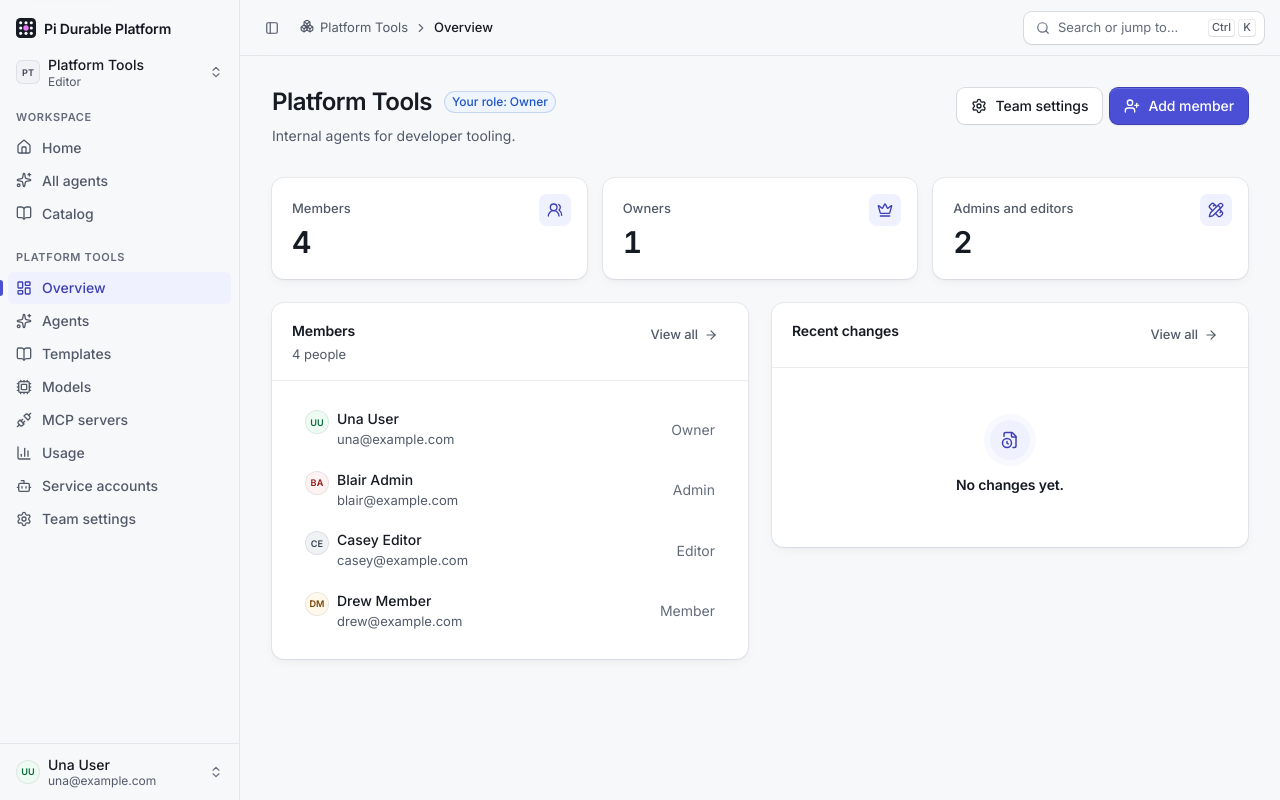
Test case: a personal workspace in the workspace › lists Personal first in the team switcher, apart from shared teams
Expected: the heading "Platform Tools" is shown, x1=272 y1=88 x2=432 y2=117
Click the button named "Current workspace".
click(120, 72)  # box x1=8 y1=52 x2=231 y2=92
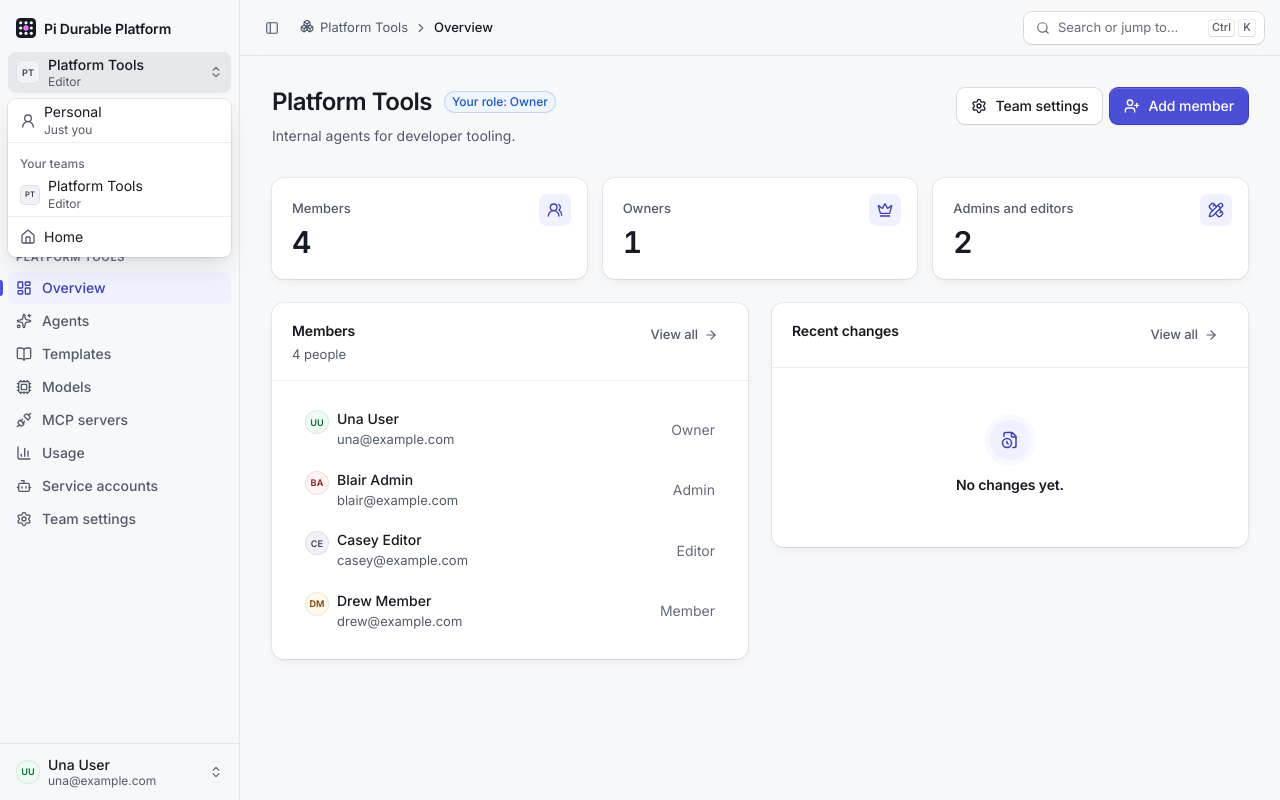
Result: the menu item "PT Platform Tools Editor" is shown at x1=20 y1=177 x2=143 y2=211
